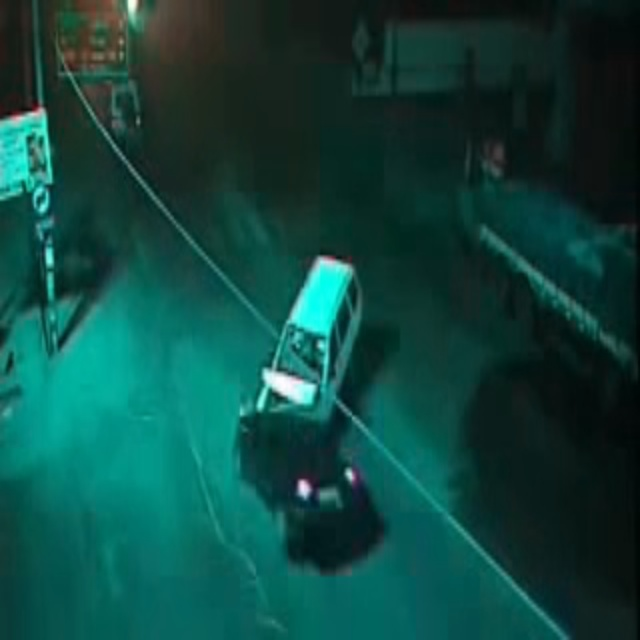acc: (201, 296, 382, 532)
